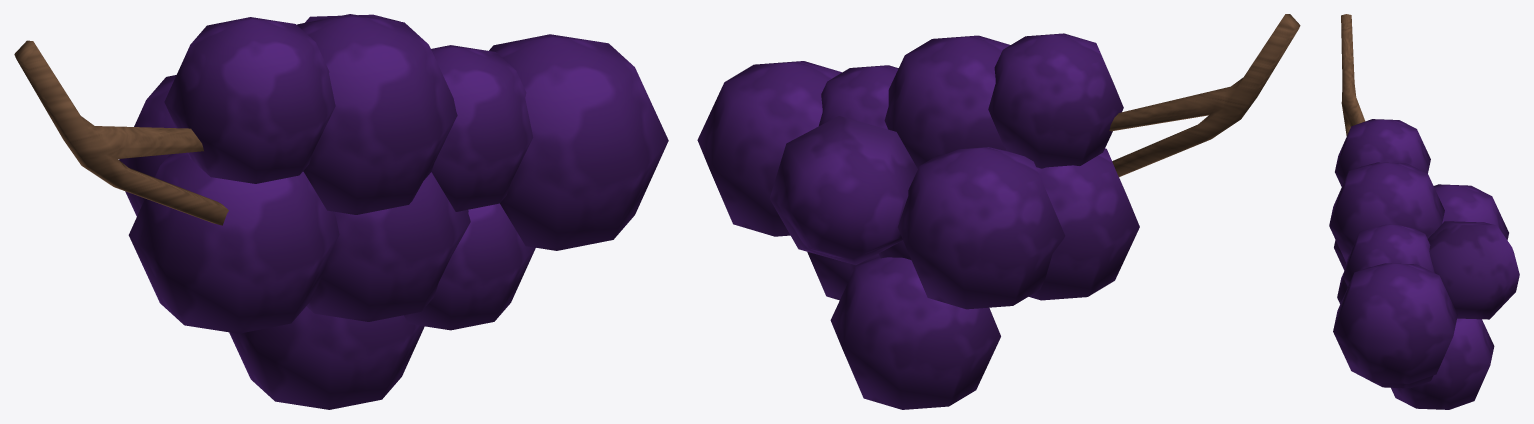
The model's file is grape.glb.
3 renders of one model, left to right at view 1: azimuth 30°, elevation 25°; view 2: azimuth 150°, elevation 25°; view 3: azimuth 270°, elevation 25°, orthographic. The views are drawn at different scales.
Parts seen in each view (by area): view 1: raisinlow, grape; view 2: raisinlow, grape; view 3: raisinlow, grape.
Boxes of the visible parts, box(x1,y1,x2,y2) form: raisinlow: box(119, 14, 668, 409); grape: box(14, 40, 228, 225); raisinlow: box(697, 33, 1139, 409); grape: box(1109, 14, 1300, 176); raisinlow: box(1329, 119, 1519, 409); grape: box(1341, 14, 1365, 135).
Bounding box in the file's own units: 1.66 × 1.21 × 0.7154.
1 material, 1 textured.
